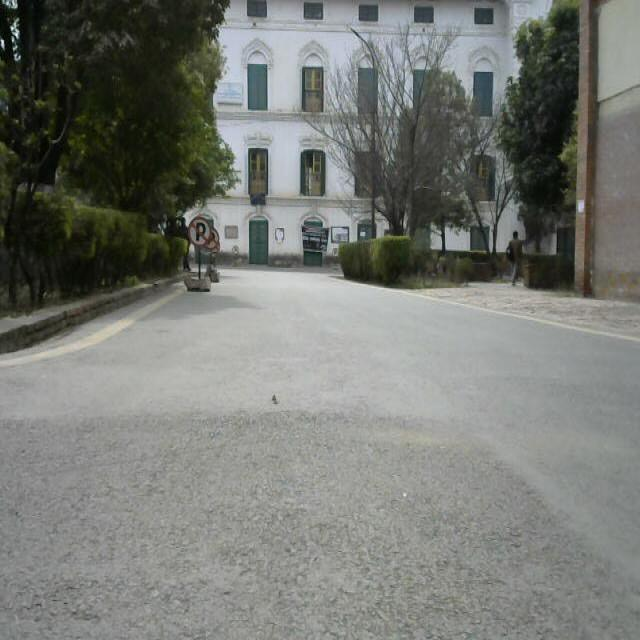Buildings: (224, 3, 302, 268), (577, 0, 640, 307)
NoParking: (179, 210, 217, 298)
Road: (0, 262, 640, 640)
trees: (1, 0, 194, 301), (303, 37, 479, 244), (505, 6, 581, 215)
